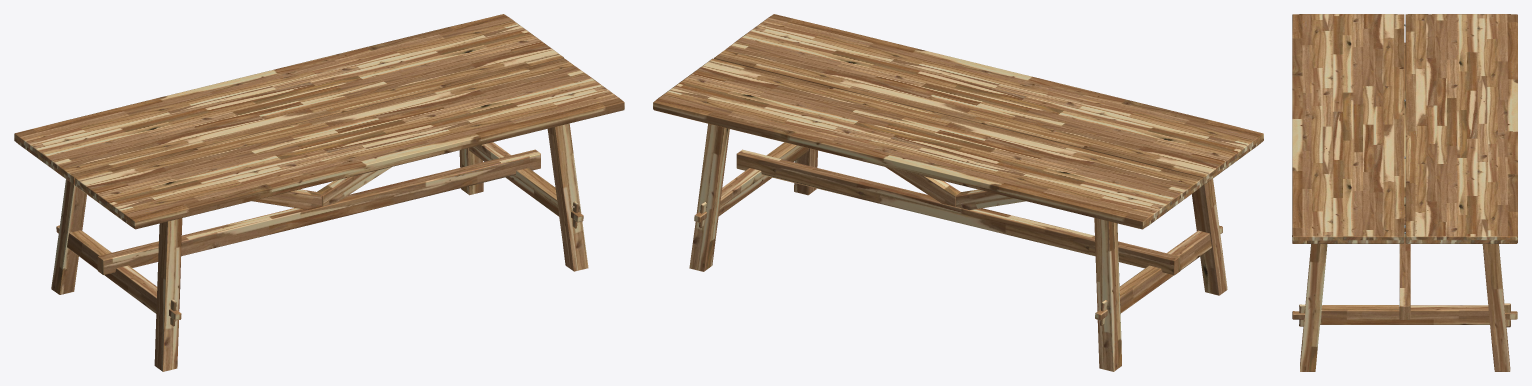
The model's file is skogsta_table_acacia.glb.
3 renders of one model, left to right at view 1: azimuth 30°, elevation 25°; view 2: azimuth 150°, elevation 25°; view 3: azimuth 270°, elevation 25°, orthographic. The views are drawn at different scales.
Visible parts, largest first — view 1: ASY_ART_00611878_S01_NV01; view 2: ASY_ART_00611878_S01_NV01; view 3: ASY_ART_00611878_S01_NV01.
Boxes of the visible parts, x1,y1,x2,y2 form: ASY_ART_00611878_S01_NV01: (14, 14, 624, 371); ASY_ART_00611878_S01_NV01: (653, 14, 1263, 371); ASY_ART_00611878_S01_NV01: (1292, 14, 1517, 371).
Size of the model in its own units: 2.35 by 0.7428 by 1.01.
1 material, 1 textured.
